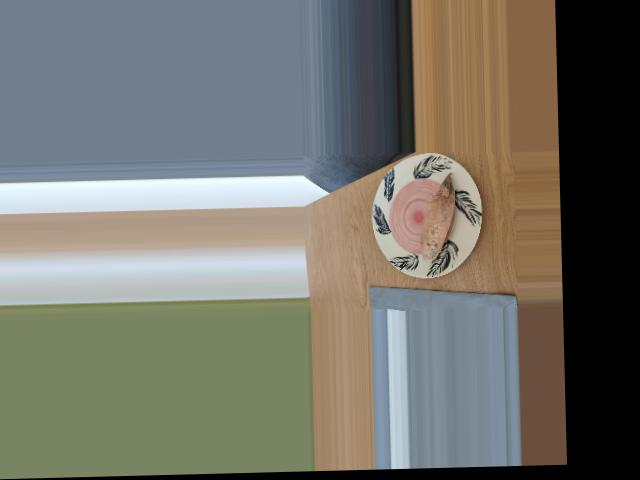sweet_potato: (413, 180, 463, 257)
